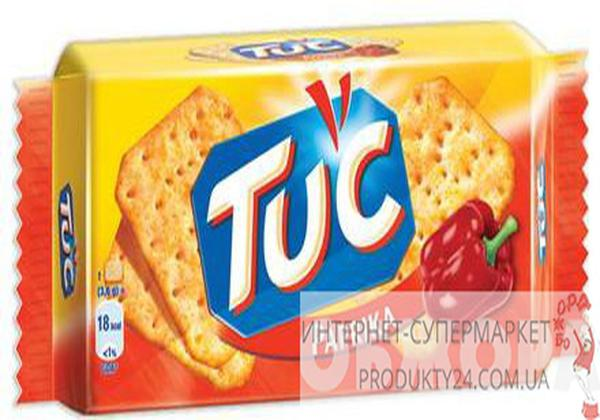crackers tuc: (58, 50, 554, 396)
